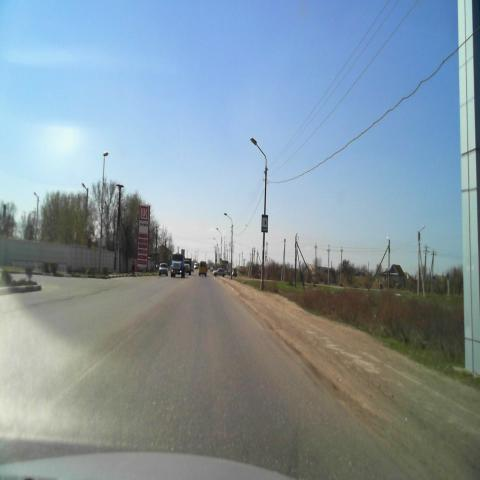7_3: (261, 214, 268, 233)
